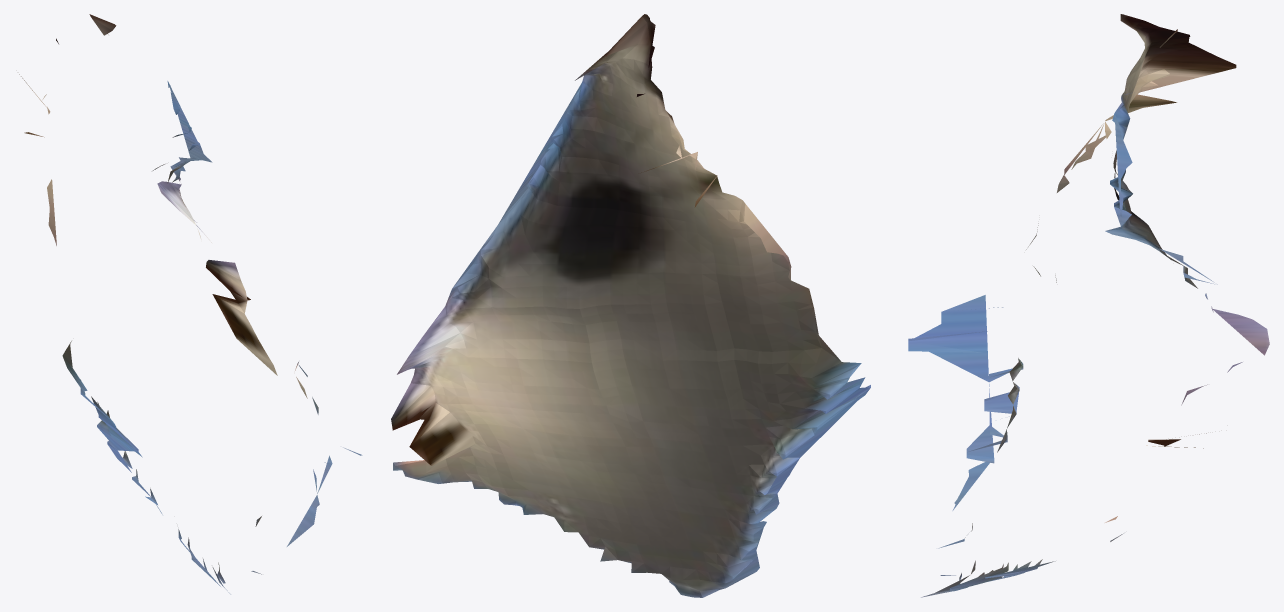
File: observed-surface.glb
The picture shows the model from 3 angles, left to right: view 1: azimuth 30°, elevation 25°; view 2: azimuth 150°, elevation 25°; view 3: azimuth 270°, elevation 25°; orthographic projection. The views are drawn at different scales.
Parts seen in each view (by area): view 1: geometry_0; view 2: geometry_0; view 3: geometry_0.
Part boxes in pixels (x1=…): geometry_0: x1=19, y1=14, x2=362, y2=594; geometry_0: x1=391, y1=14, x2=870, y2=597; geometry_0: x1=908, y1=14, x2=1269, y2=597.
Bounding box in the file's own units: 0.316 × 0.5382 × 0.3297.
Materials: 1 (1 with a texture image).
